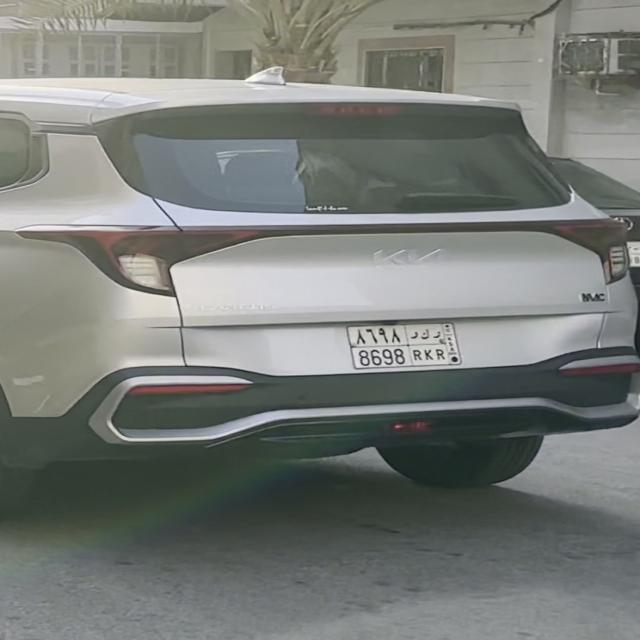Car-plate: (332, 316, 476, 376)
